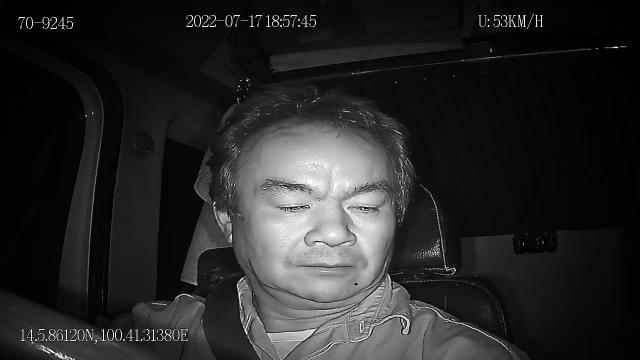SafeDriving: (338, 189, 390, 221), (264, 188, 319, 218)
Seatbelt: (200, 272, 264, 360)
